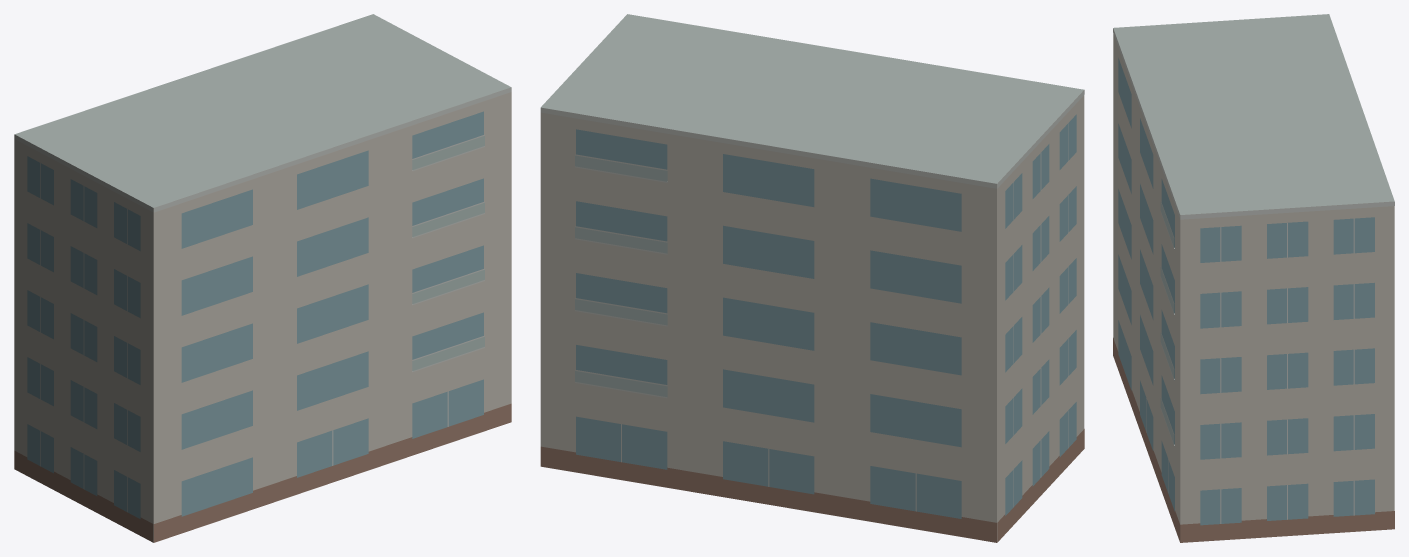
Rendered from survey-upis-32575748.glb.
3 views of the same model, side by side, from view 1: azimuth 30°, elevation 25°; view 2: azimuth 150°, elevation 25°; view 3: azimuth 270°, elevation 25° (orthographic). The views are drawn at different scales.
Visible parts, largest first — view 1: survey-upis-32575748.tmp; view 2: survey-upis-32575748.tmp; view 3: survey-upis-32575748.tmp.
Boxes of the visible parts, x1,y1,x2,y2 form: survey-upis-32575748.tmp: [14, 14, 511, 542]; survey-upis-32575748.tmp: [540, 14, 1084, 542]; survey-upis-32575748.tmp: [1113, 14, 1394, 542].
Size of the model in its own units: 22.9 by 17.4 by 13.56.
